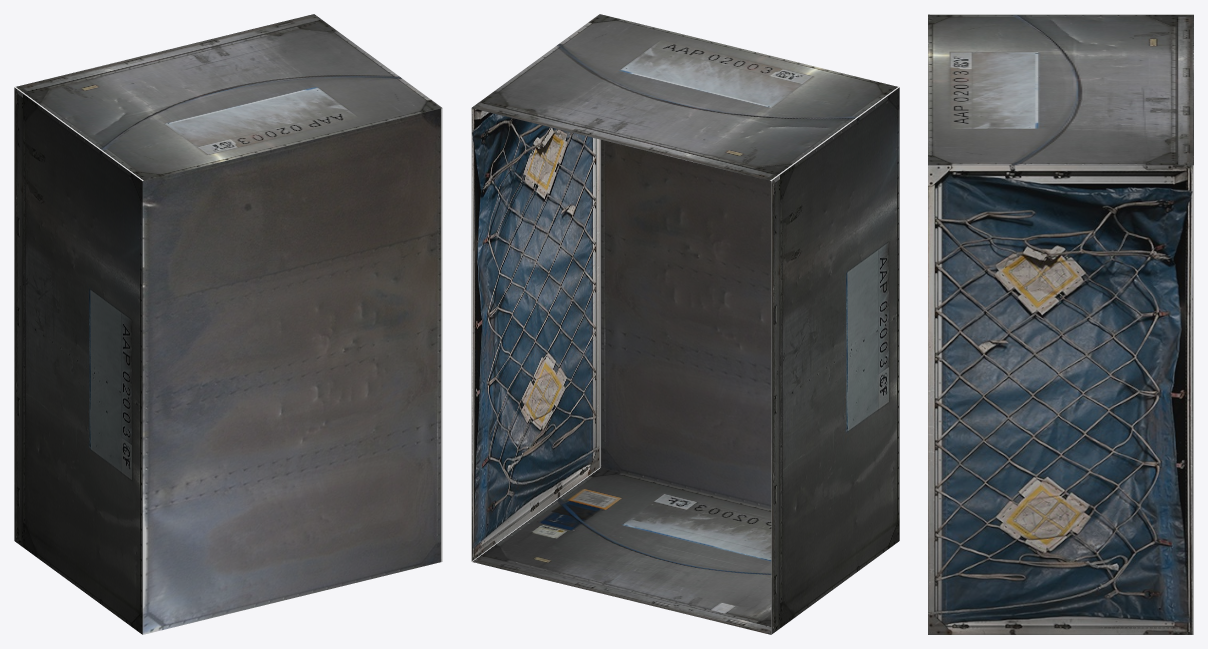
File: jzx2.glb
The picture shows the model from 3 angles, left to right: view 1: azimuth 30°, elevation 25°; view 2: azimuth 150°, elevation 25°; view 3: azimuth 270°, elevation 25°; orthographic projection. The views are drawn at different scales.
Visible parts, largest first — view 1: 1; view 2: 1; view 3: 1.
Part boxes in pixels (x1,y1,x2,y2): 1: (14, 14, 442, 634); 1: (471, 14, 899, 634); 1: (928, 14, 1193, 634).
Bounding box in the file's own units: 2.2 × 3.18 × 1.63.
1 material, 1 textured.
